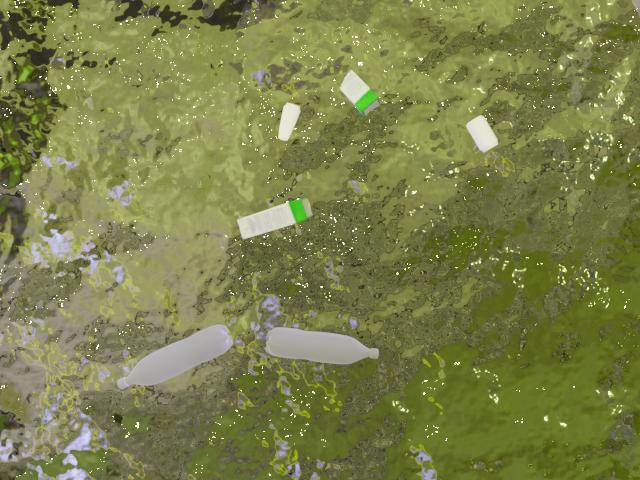Metal: (462, 108, 504, 159), (267, 98, 306, 149)
Plastic: (111, 316, 241, 394), (257, 316, 382, 385)
Trash: (227, 191, 316, 246), (336, 66, 383, 135)
